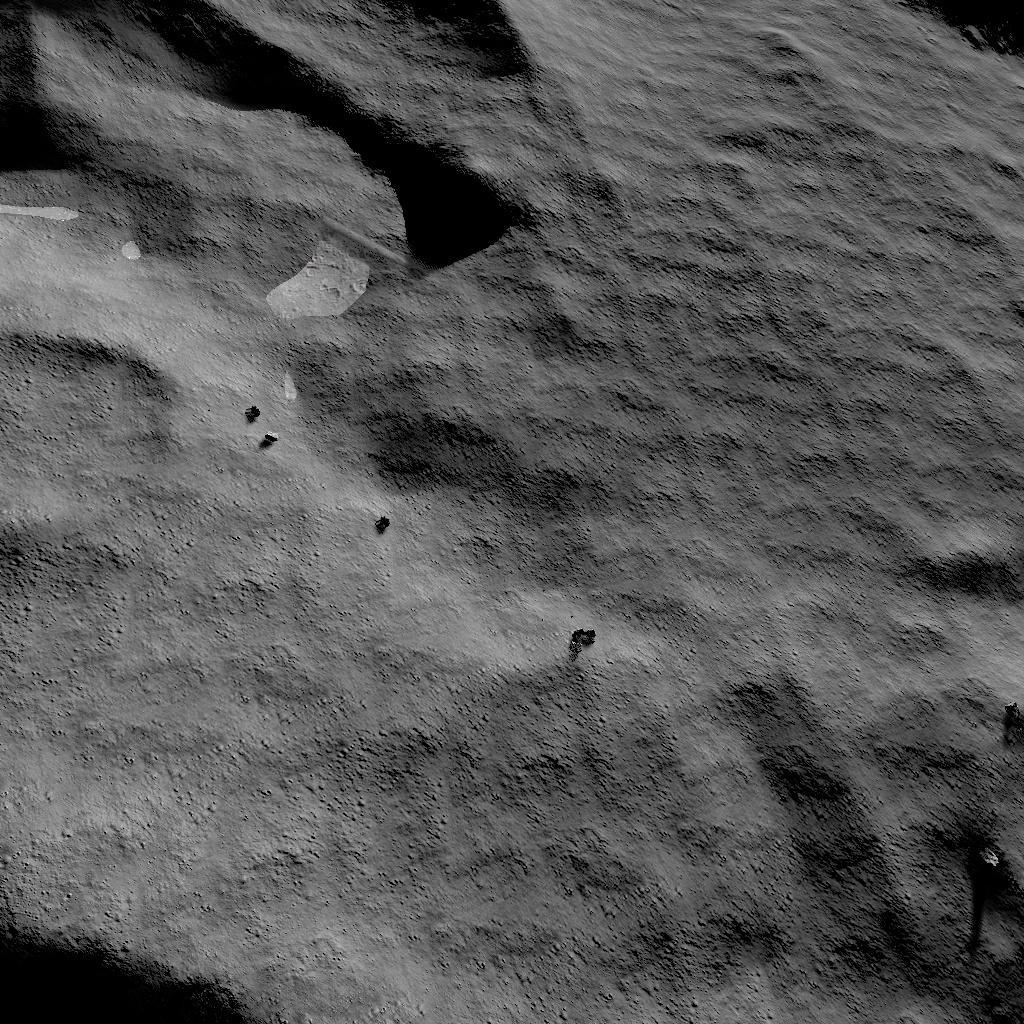Crater: (0, 0, 552, 311), (0, 340, 175, 588), (0, 916, 275, 1024), (904, 0, 1024, 52)
Plan surface: (603, 65, 943, 1024), (0, 599, 554, 900)
